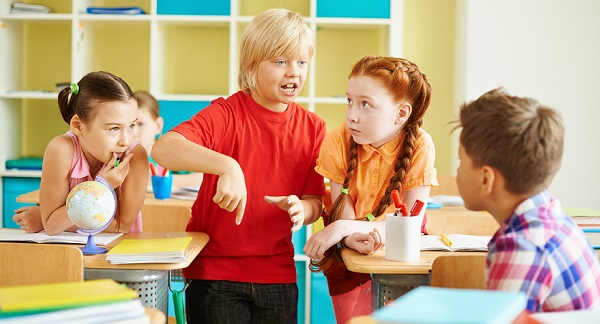Person: (190, 7, 313, 291), (456, 96, 590, 324), (318, 62, 434, 287), (38, 73, 163, 257)
